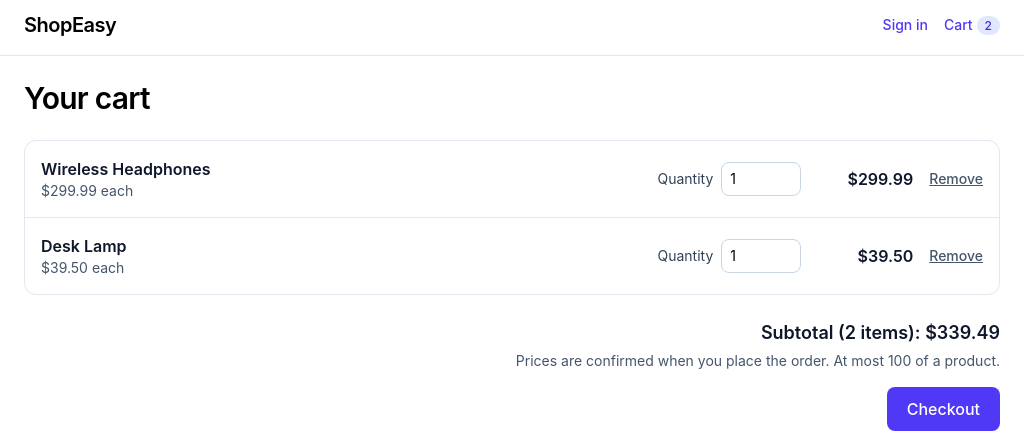
Test case: CartPage › removes a line, and says the cart is empty after the last one
Expected: the link "Desk Lamp" is shown, [41,236,127,256]
Click the button with aria-label "Remove Desk Lamp": (956, 256) [929,246,983,266]
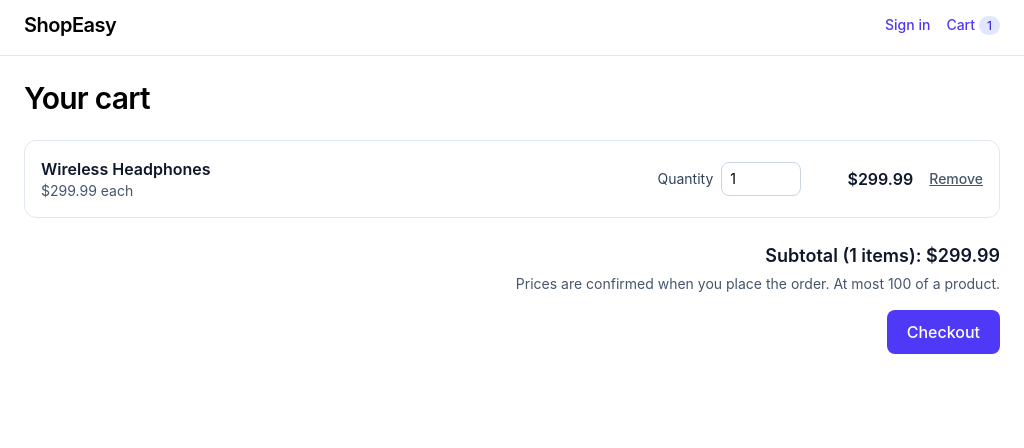
Expected: the link "Wireless Headphones" is shown, [41,159,210,179]
Result: the link "Desk Lamp" is gone
Click the button with aria-label "Remove Wireless Headphones": (956, 179) [929,169,983,189]
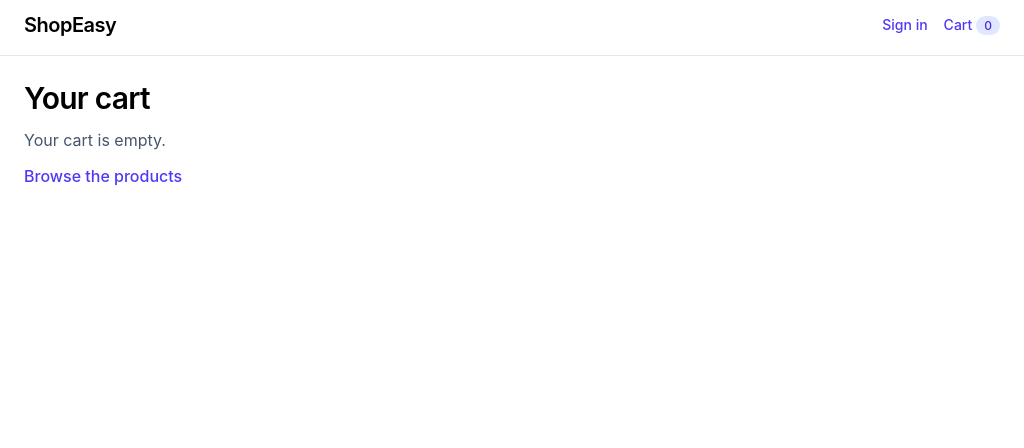
Result: the text "Your cart is empty." is shown at [24,128,166,152]
